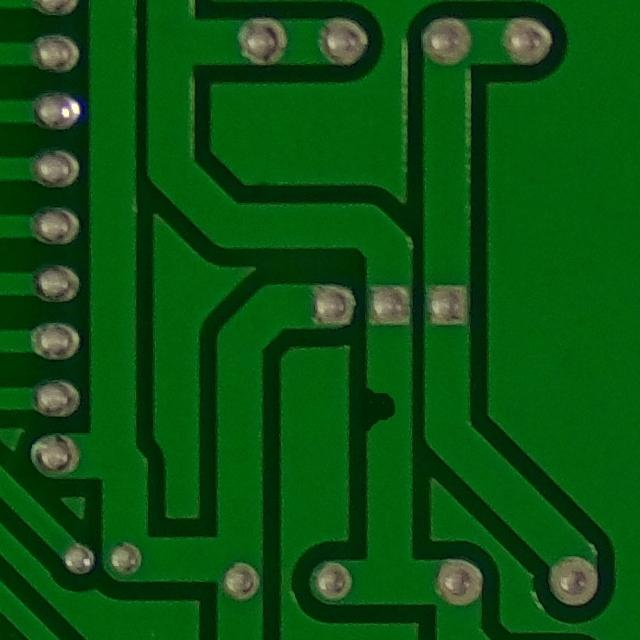mouse_bite: (360, 370, 407, 447)
